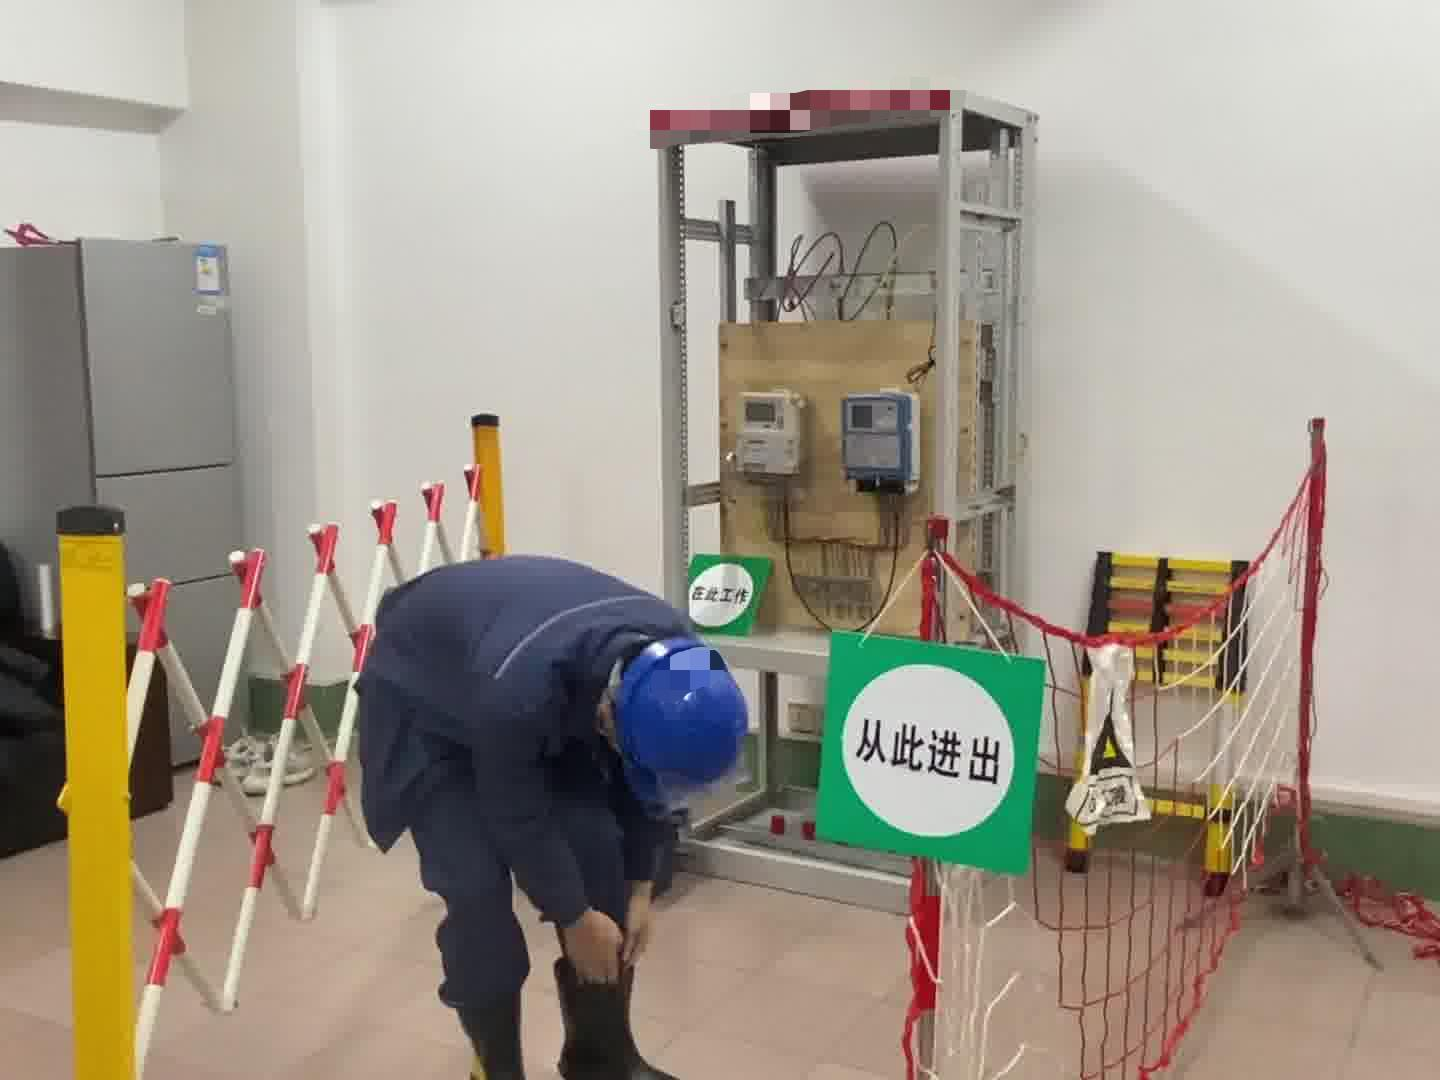halt: (612, 638, 754, 808)
